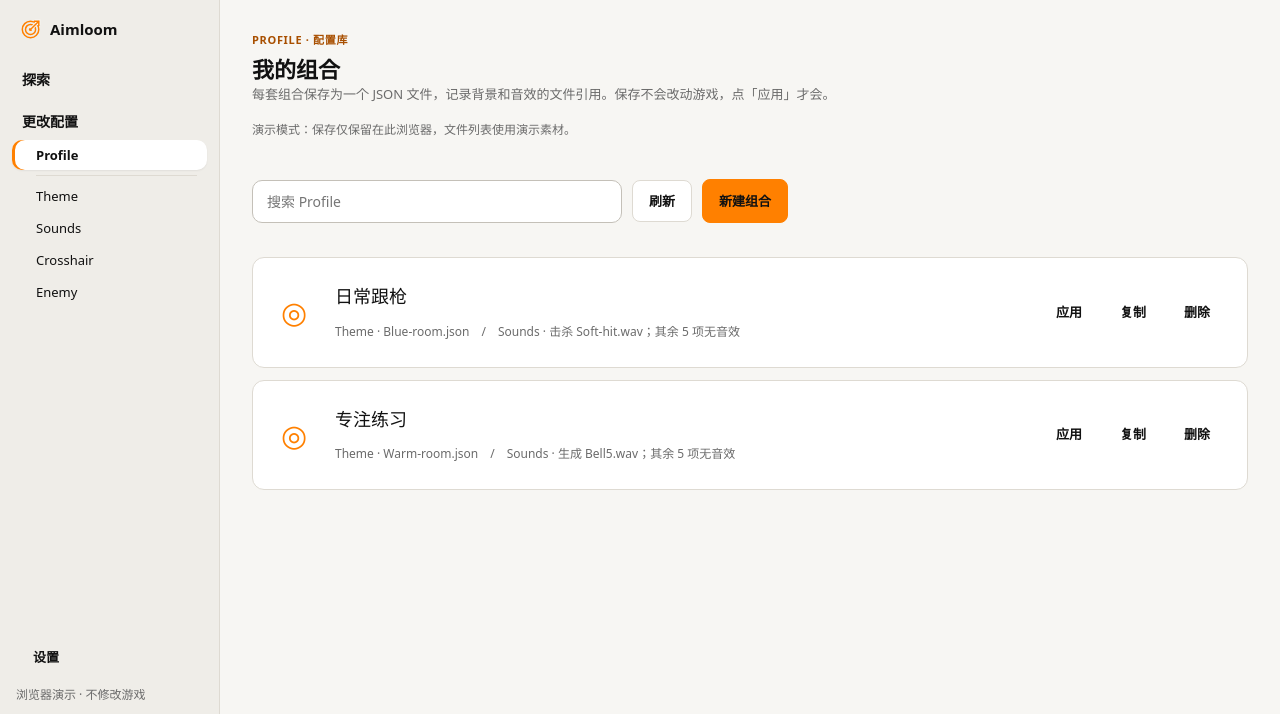
a blocked window close › shows one dialog on any page and Keep open dismisses it
The width and height of the screenshot is (1280, 714).
Click the button "探索": coordinates (110, 79) top-left (12, 62), bottom-right (207, 96)
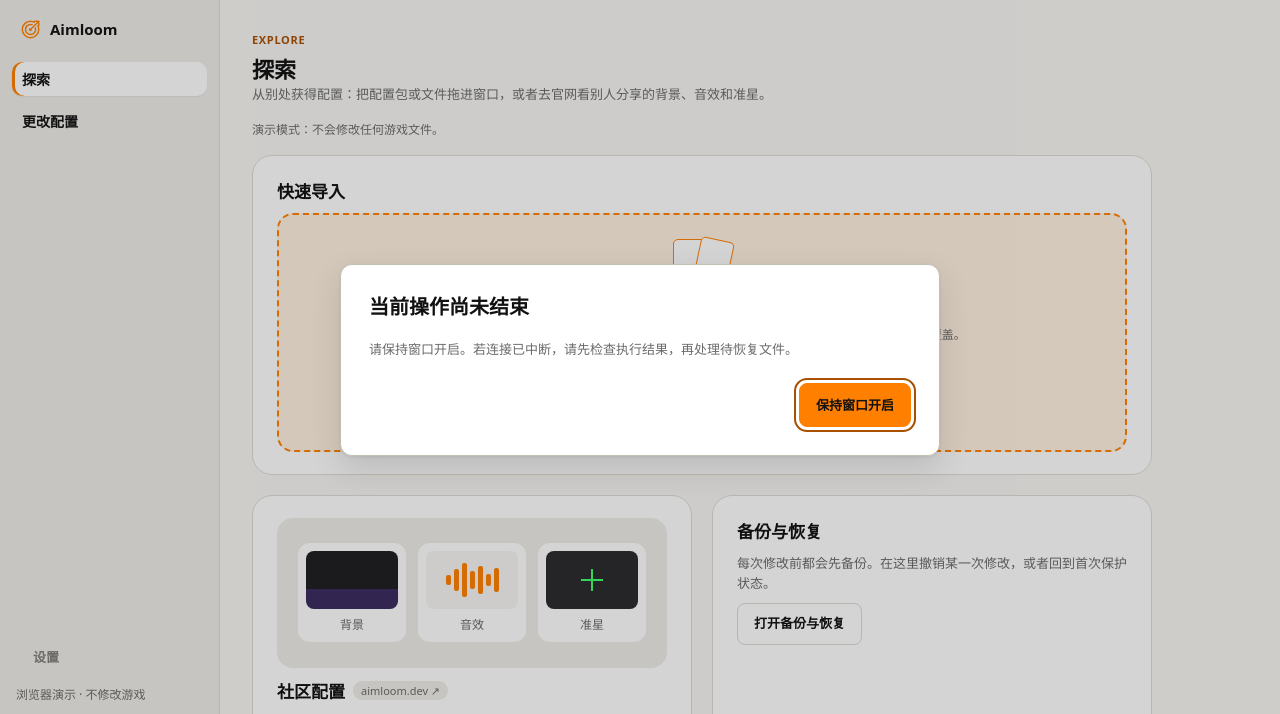
Now the heading "探索" is shown, box top-left (252, 54), bottom-right (296, 84)
Now the number of dialogs is 1, box top-left (340, 264), bottom-right (940, 456)
Click the button "保持窗口开启": coordinates (855, 405) top-left (799, 383), bottom-right (911, 427)
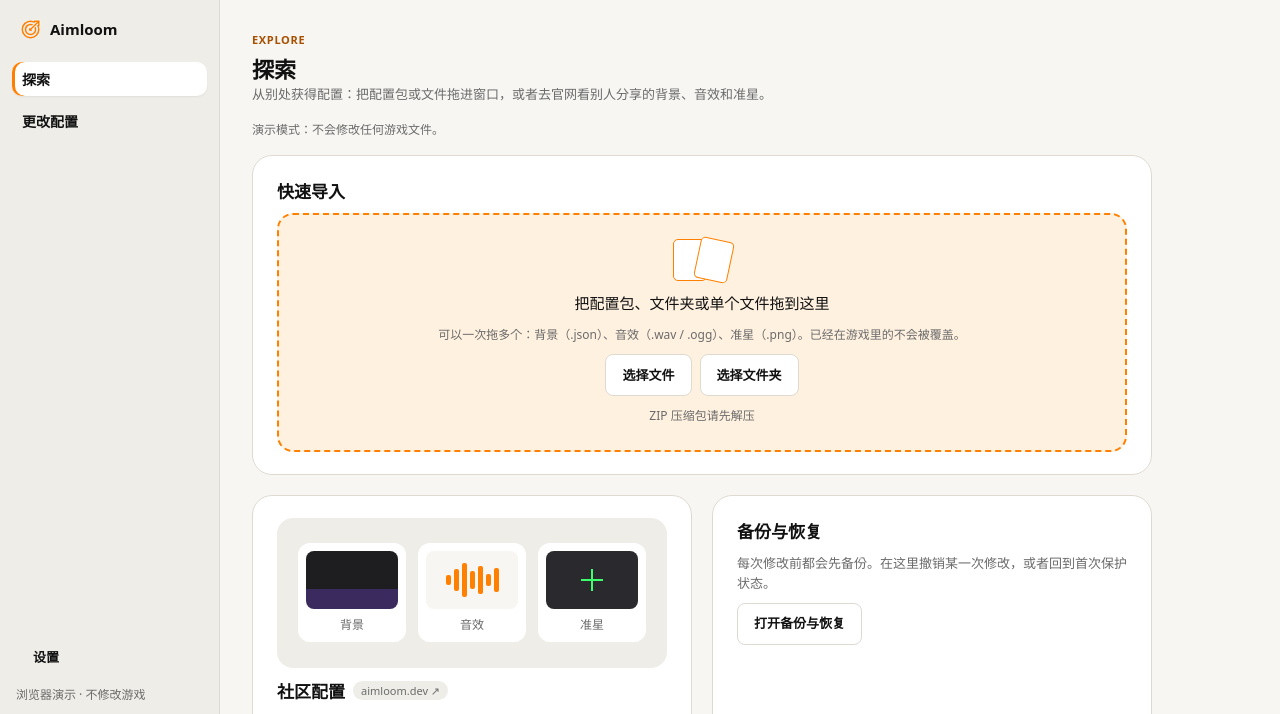
Now the dialog is gone
